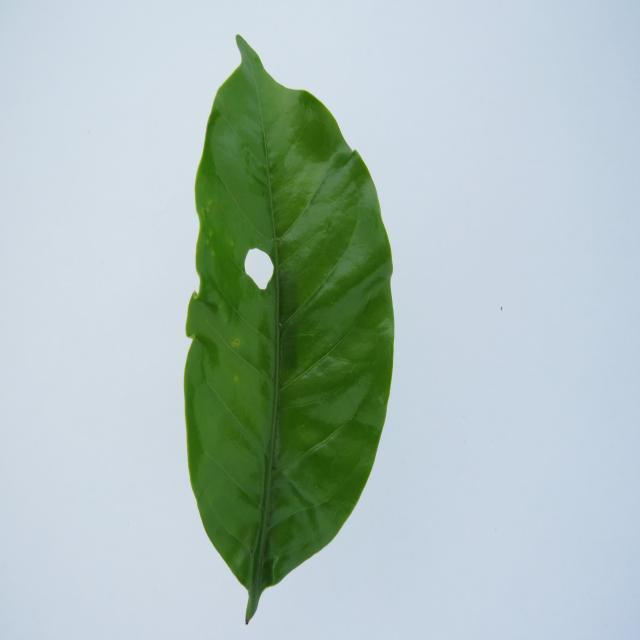DeficienciaNutricional-Calcio: (184, 35, 394, 623)
